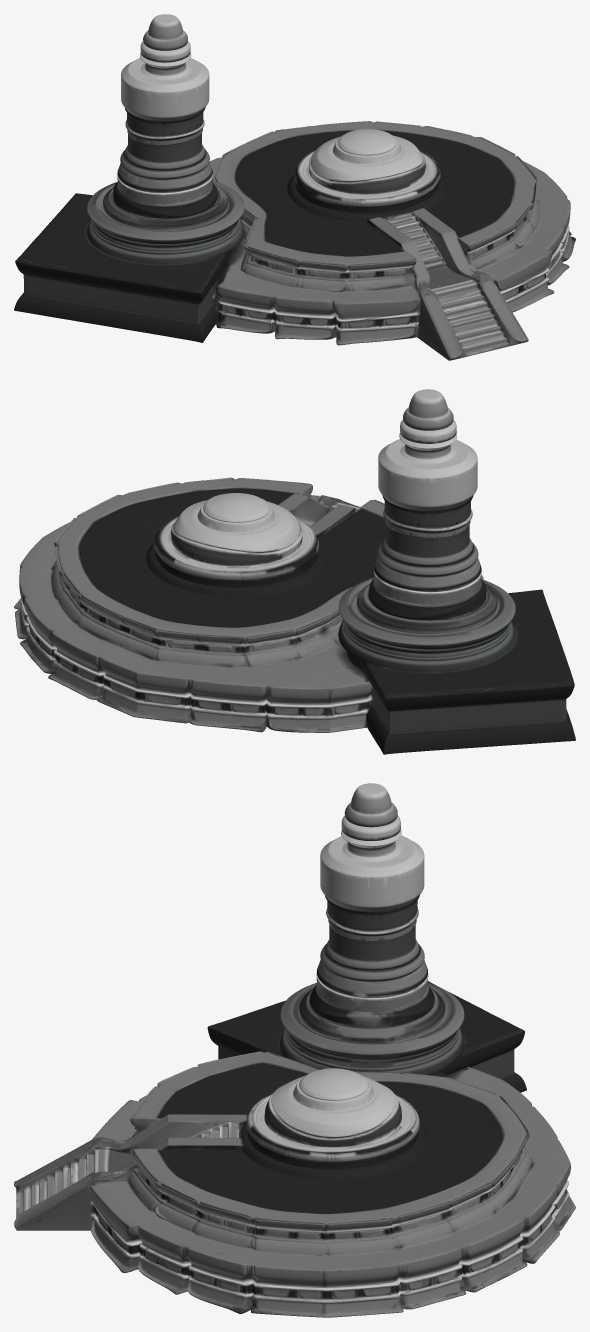
The model's file is muara_takus.glb.
3 renders of one model, top to bottom at view 1: azimuth 30°, elevation 25°; view 2: azimuth 150°, elevation 25°; view 3: azimuth 270°, elevation 25°, orthographic. The views are drawn at different scales.
Visible parts, largest first — view 1: convert; view 2: convert; view 3: convert.
Part boxes in pixels (x1,y1,x2,y2): convert: [14, 14, 575, 360]; convert: [14, 389, 575, 754]; convert: [14, 783, 575, 1317].
Size of the model in its own units: 1.04 by 0.5258 by 0.84.
Materials: 1 (1 with a texture image).
